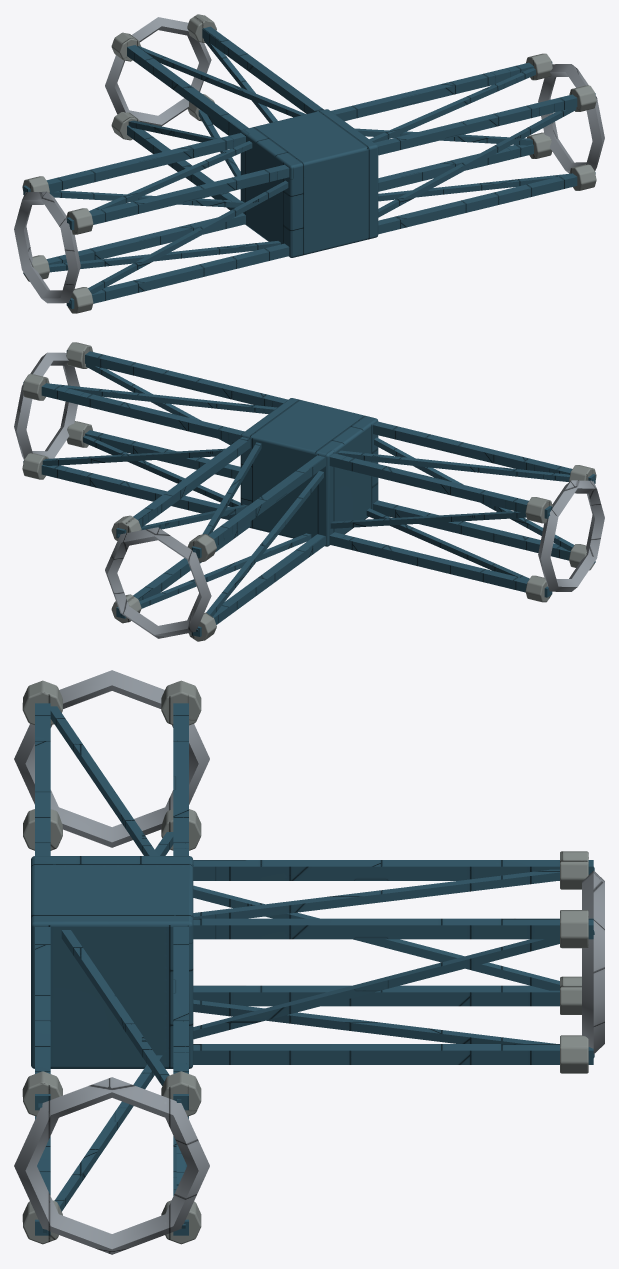
Rendered from truss_tee_lod2.glb.
The picture shows the model from 3 angles, top to bottom: view 1: azimuth 30°, elevation 25°; view 2: azimuth 150°, elevation 25°; view 3: azimuth 270°, elevation 25°; orthographic projection. The views are drawn at different scales.
Visible parts, largest first — view 1: LOD2_Armor, LOD2_BrushedMetal, LOD2_Hull; view 2: LOD2_Armor, LOD2_BrushedMetal, LOD2_Hull; view 3: LOD2_Armor, LOD2_BrushedMetal, LOD2_Hull.
Boxes of the visible parts, x1,y1,x2,y2 form: LOD2_Armor: [23, 26, 595, 308]; LOD2_BrushedMetal: [14, 17, 604, 303]; LOD2_Hull: [22, 14, 596, 313]; LOD2_Armor: [23, 350, 595, 636]; LOD2_BrushedMetal: [14, 352, 604, 638]; LOD2_Hull: [22, 342, 596, 641]; LOD2_Armor: [31, 703, 594, 1235]; LOD2_BrushedMetal: [14, 670, 604, 1254]; LOD2_Hull: [22, 680, 588, 1244].
Size of the model in its own units: 8.19 by 1.63 by 4.91.
Materials: 3 (3 with a texture image).
